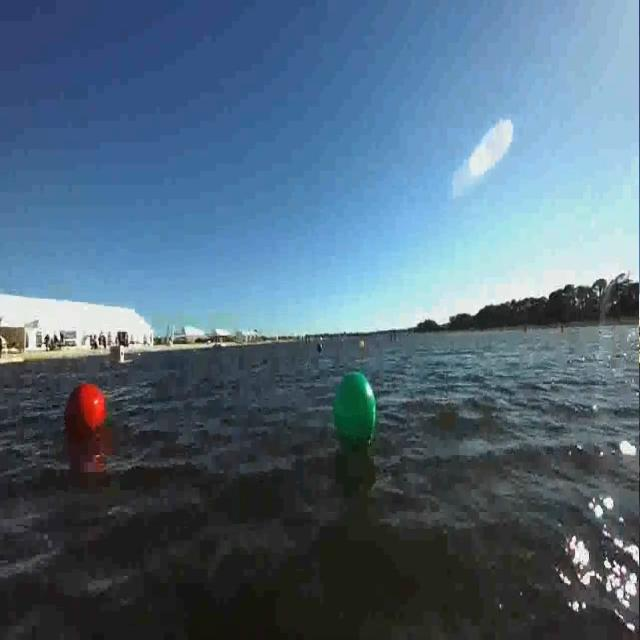green-buoy: (333, 370, 379, 458)
red-buoy: (64, 382, 110, 440)
yellow-buoy: (359, 338, 365, 350)
